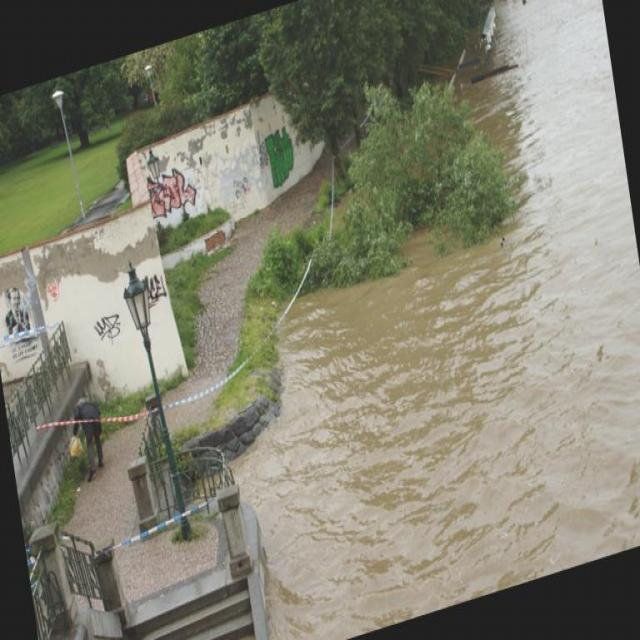flood: (217, 195, 639, 639)
